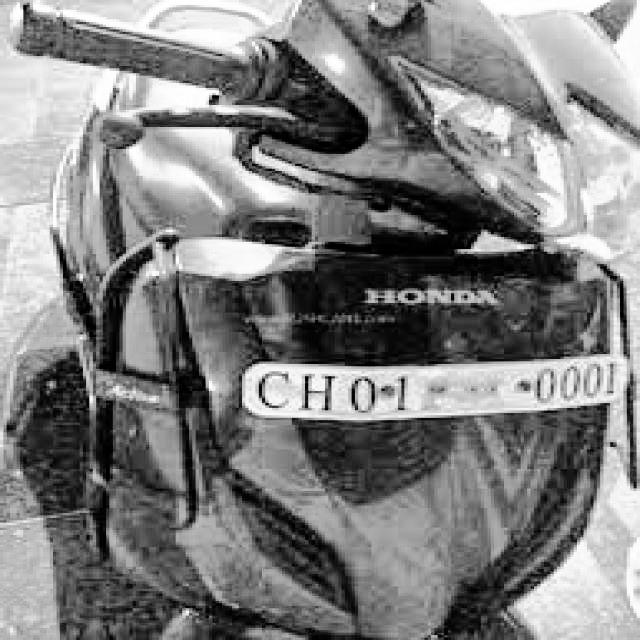Bike: (18, 3, 640, 628)
